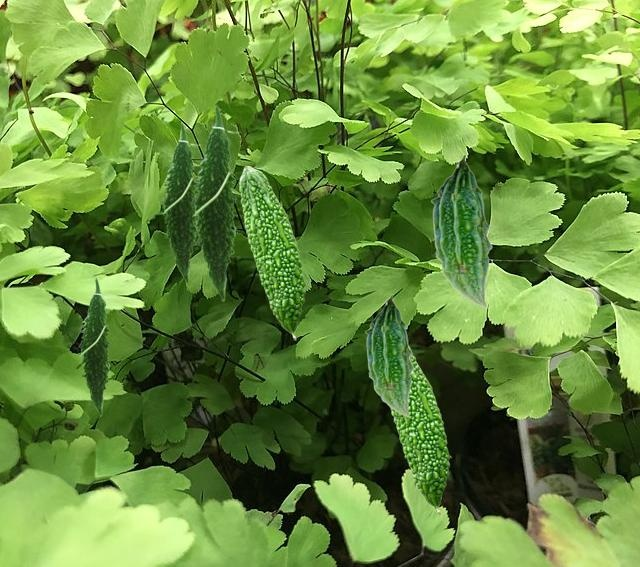ampalaya: (238, 165, 307, 341), (390, 345, 452, 515), (190, 104, 243, 302), (430, 153, 492, 309), (160, 121, 203, 284), (364, 294, 414, 418), (77, 277, 114, 417)
